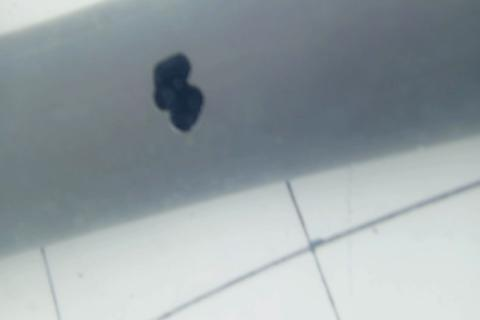kebocoran: (151, 50, 207, 135)
